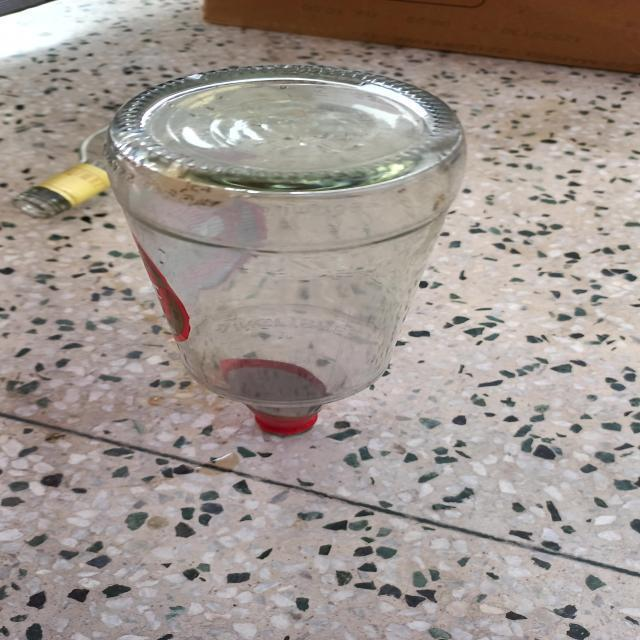Glass: (104, 64, 466, 436)
